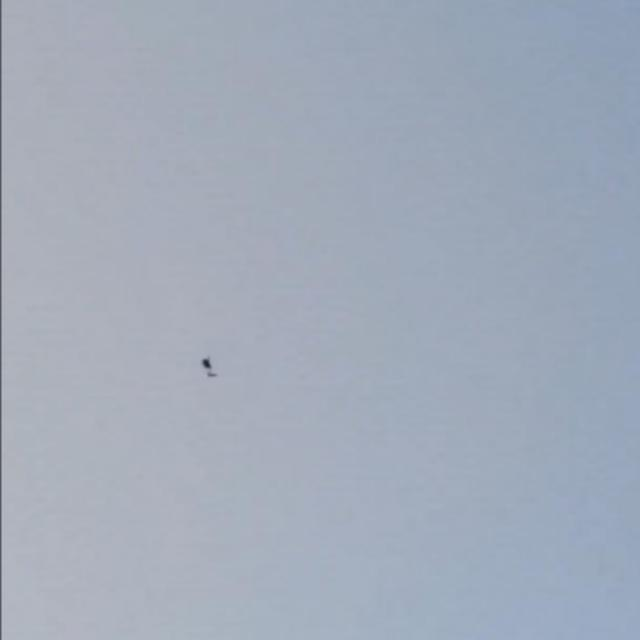plane: (198, 354, 216, 377)
